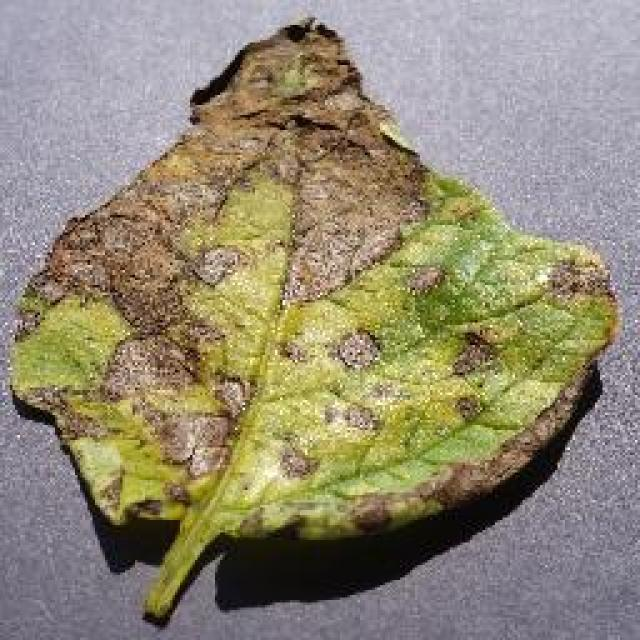early_blight: (5, 13, 623, 625)
